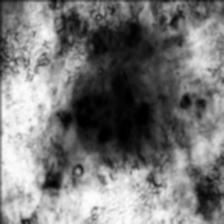Potentially Malignant Skin Tumors: (62, 74, 160, 156)
